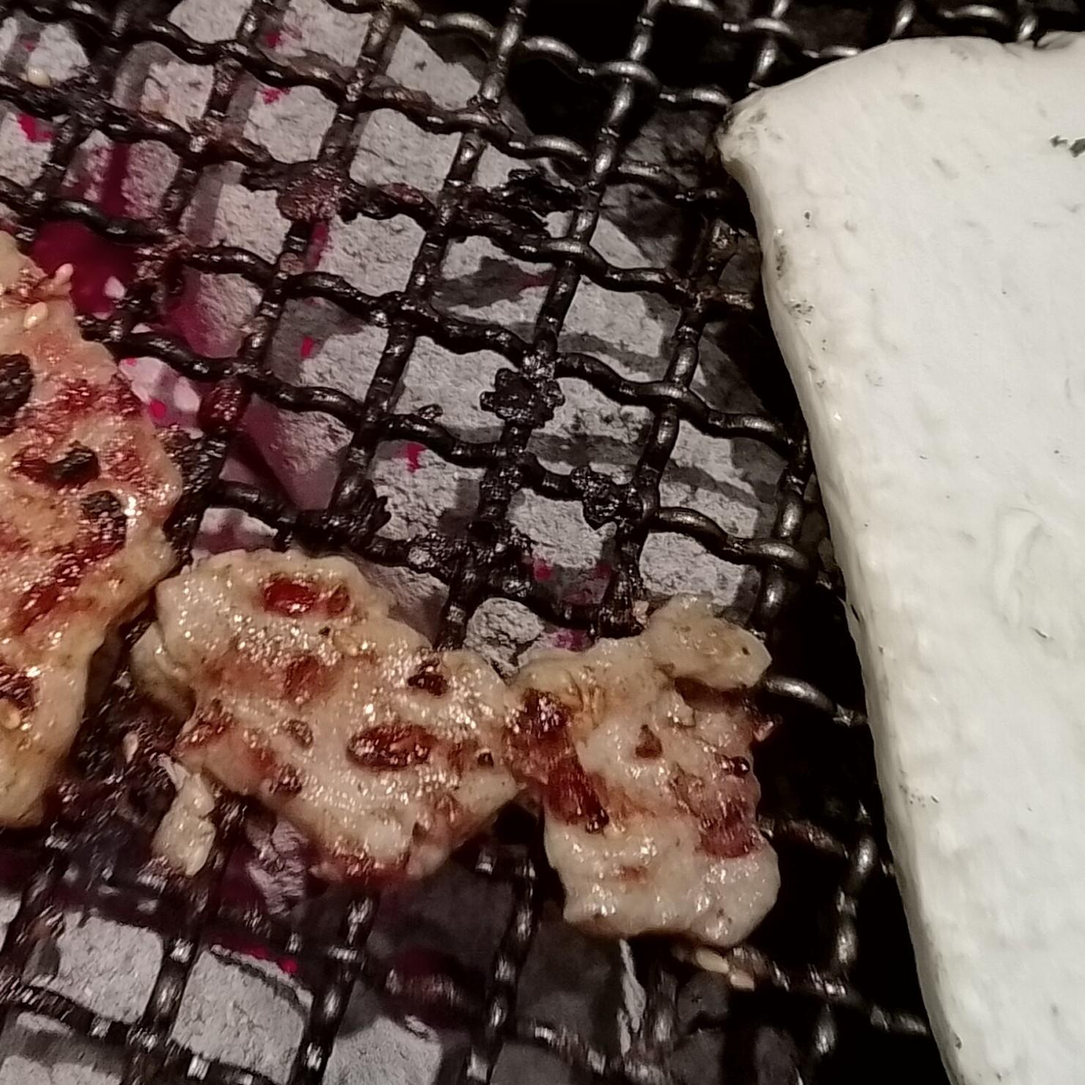Overcooked: (133, 550, 519, 881), (0, 233, 182, 827), (507, 597, 779, 947)
